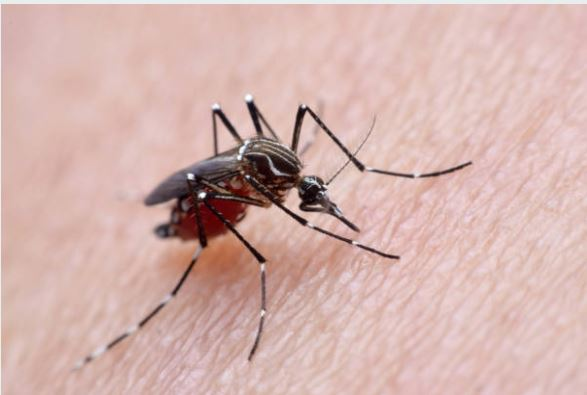dengue_mosquito: (144, 92, 472, 258)
